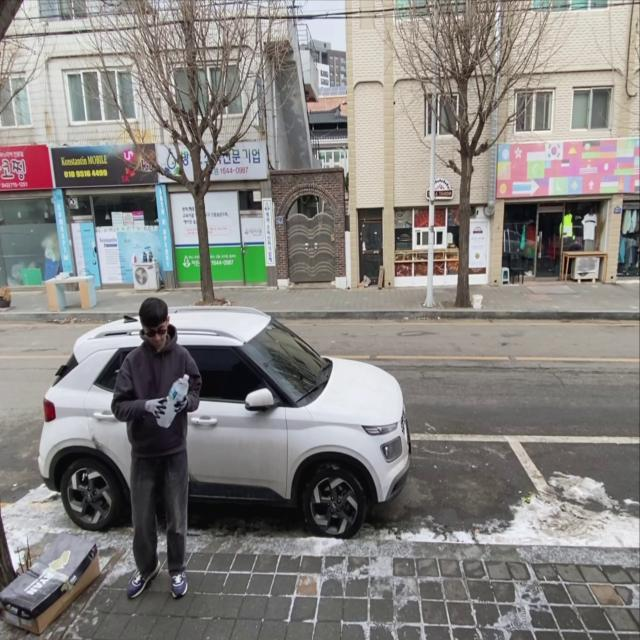gloved_hand: (141, 389, 166, 424), (173, 392, 190, 416)
